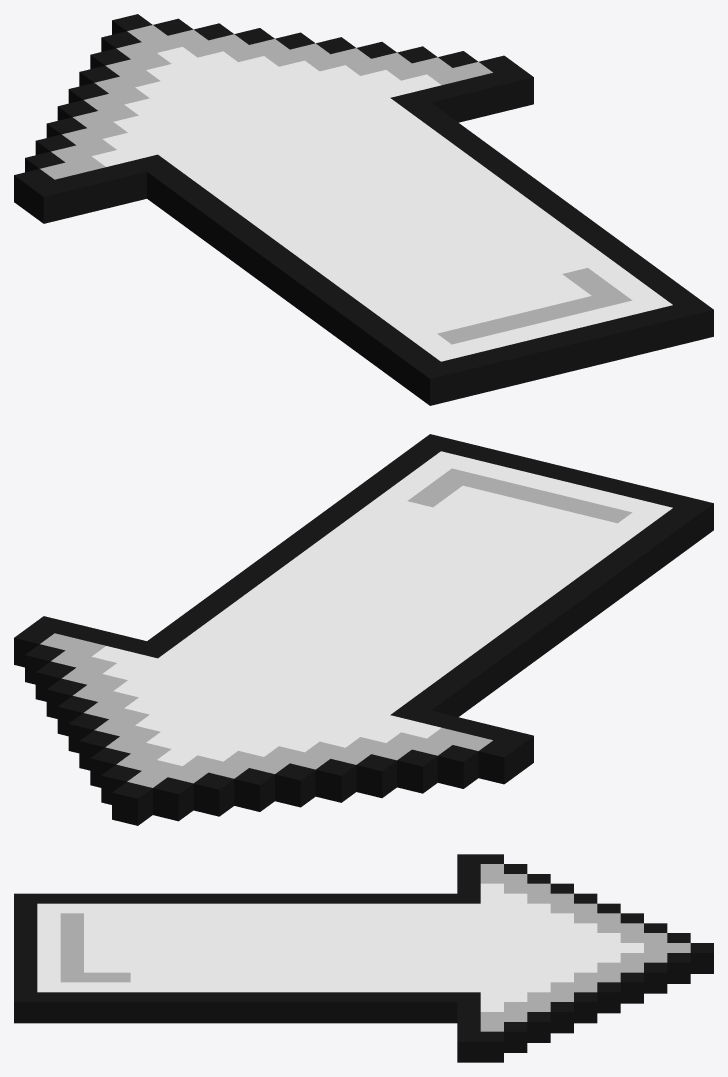
File: arrow-2.obj
3 renders of one model, top to bottom at view 1: azimuth 30°, elevation 25°; view 2: azimuth 150°, elevation 25°; view 3: azimuth 270°, elevation 25°, orthographic. The views are drawn at different scales.
Size of the model in its own units: 1.9 by 0.1 by 3.
1 material, 1 textured.
